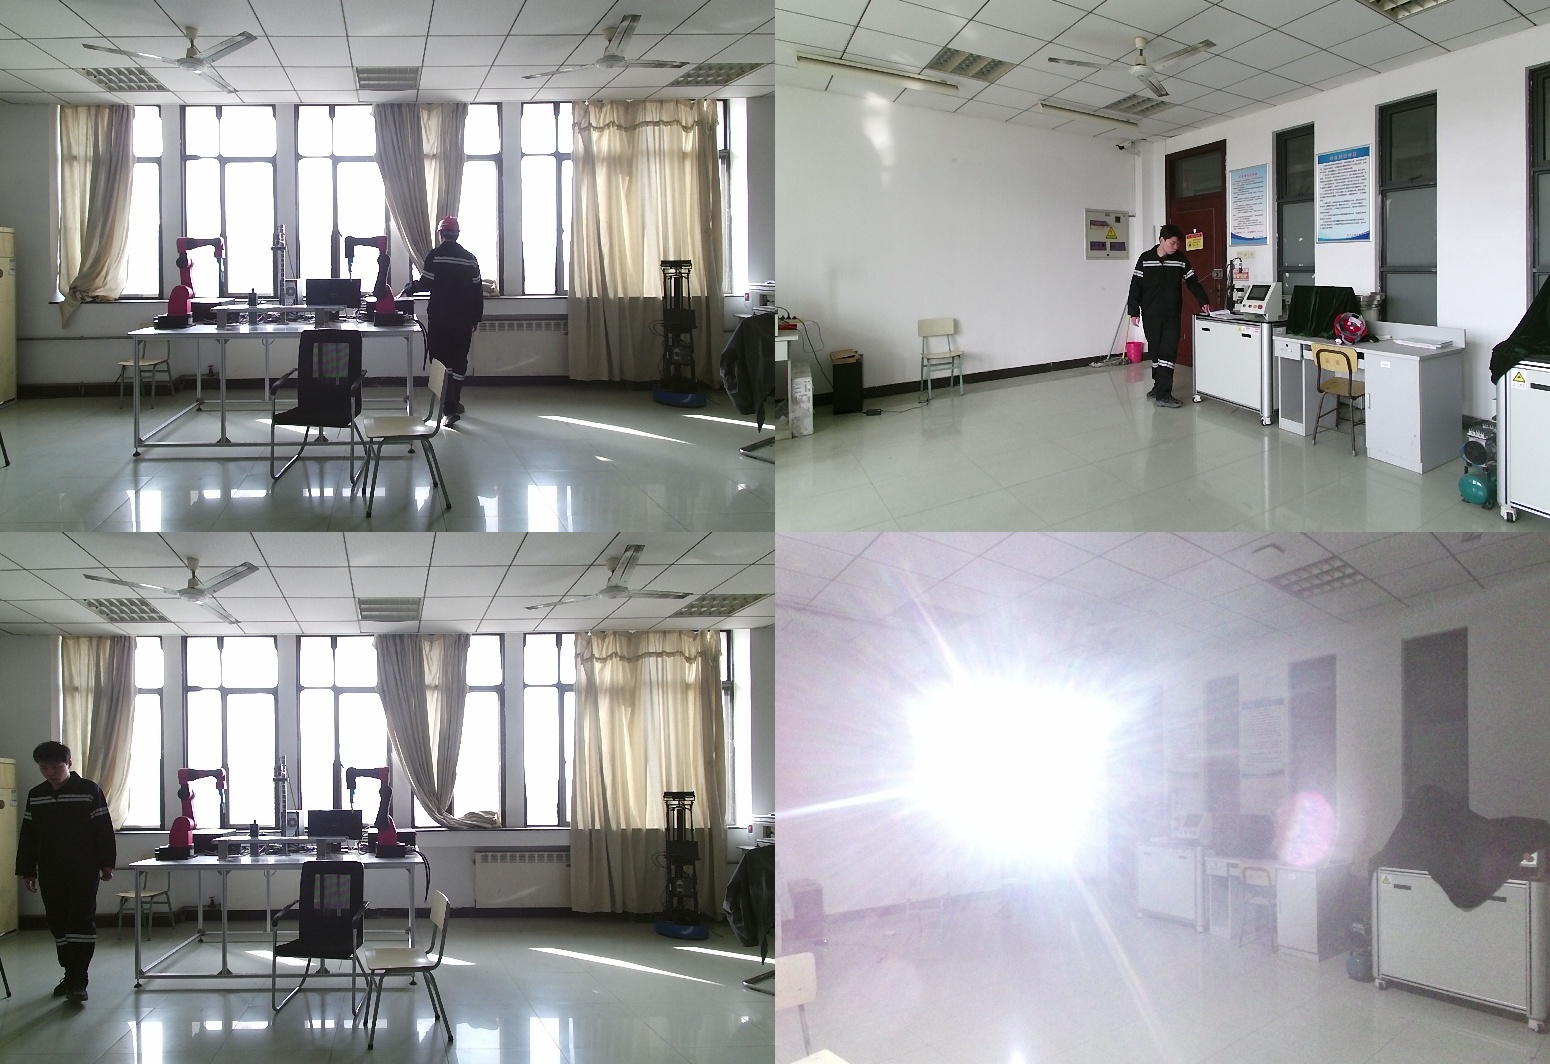person: (16, 741, 120, 997), (400, 216, 488, 426), (1129, 226, 1215, 410), (989, 763, 1045, 923)
